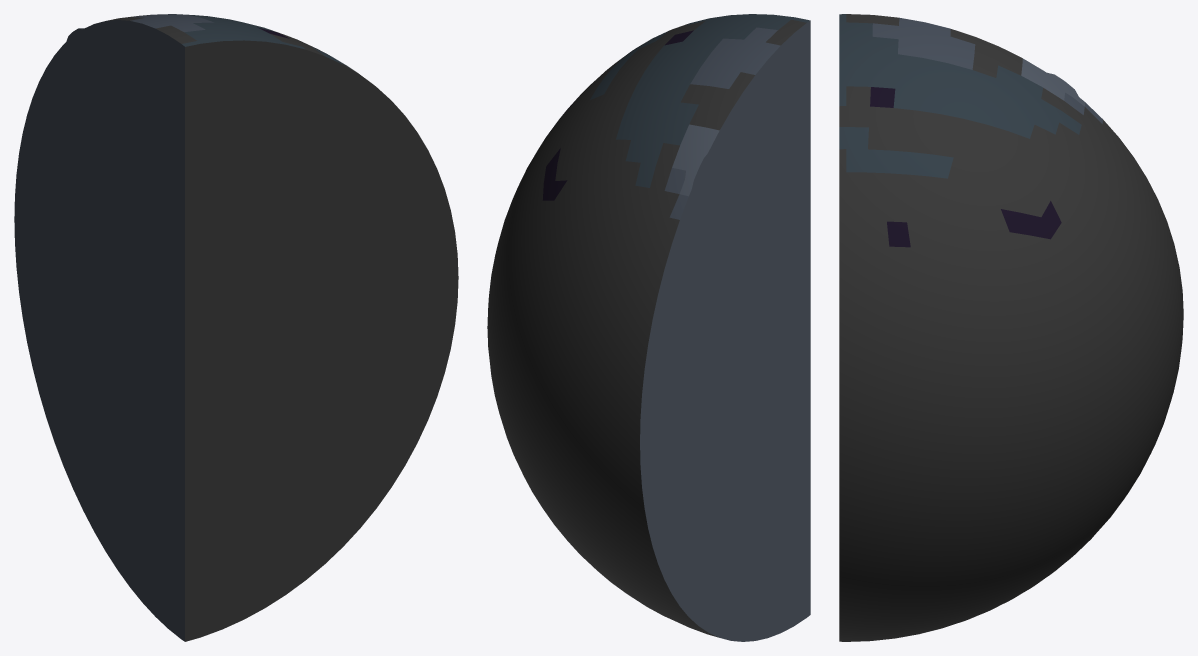
The model's file is newshu-93.glb.
3 renders of one model, left to right at view 1: azimuth 30°, elevation 25°; view 2: azimuth 150°, elevation 25°; view 3: azimuth 270°, elevation 25°, orthographic.
Visible parts, largest first — view 1: newshu-93; view 2: newshu-93; view 3: newshu-93.
Part boxes in pixels (x1,y1,x2,y2): newshu-93: (14,14,458,641); newshu-93: (487,14,810,641); newshu-93: (839,14,1183,641).
Size of the model in its own units: 1.84 by 3.83 by 1.99.
